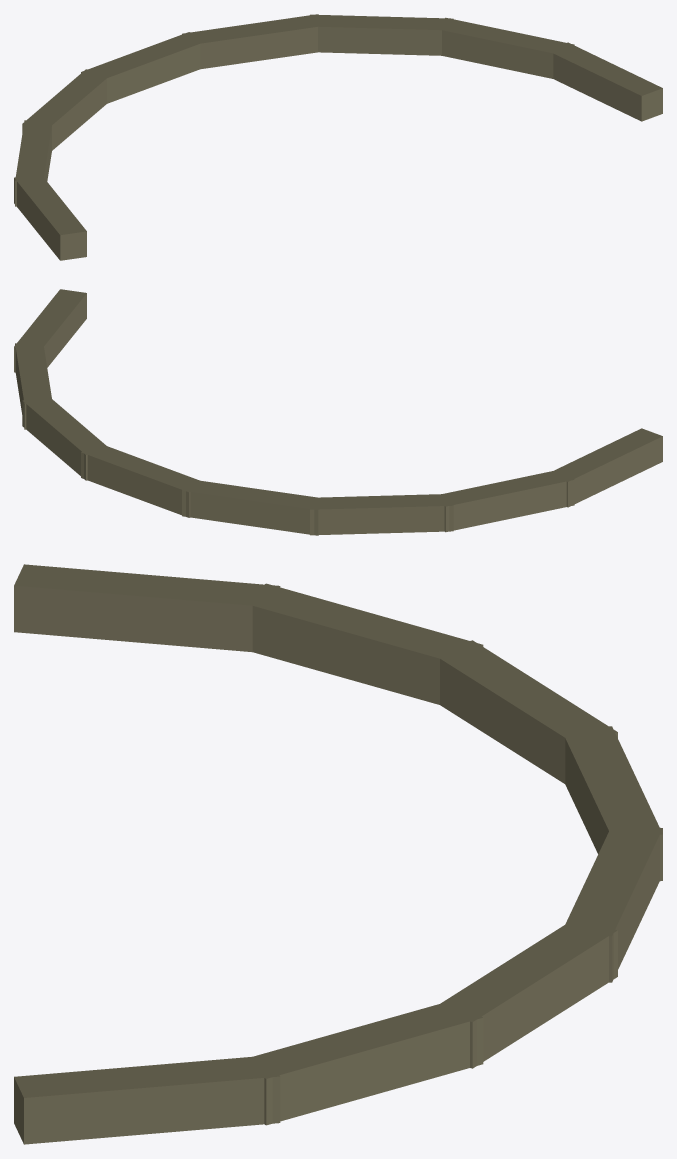
Rendered from SM_Manguera_v1_Curva_LOD1.fbx.
The picture shows the model from 3 angles, top to bottom: view 1: azimuth 30°, elevation 25°; view 2: azimuth 150°, elevation 25°; view 3: azimuth 270°, elevation 25°; orthographic projection. The views are drawn at different scales.
Visible parts, largest first — view 1: SM_farp_betera_v6_LOD1; view 2: SM_farp_betera_v6_LOD1; view 3: SM_farp_betera_v6_LOD1.
Boxes of the visible parts, box(x1,y1,x2,y2) form: SM_farp_betera_v6_LOD1: box(14, 14, 662, 260); SM_farp_betera_v6_LOD1: box(14, 289, 662, 535); SM_farp_betera_v6_LOD1: box(14, 564, 662, 1144).
Size of the model in its own units: 8.37 by 0.34 by 4.3.
